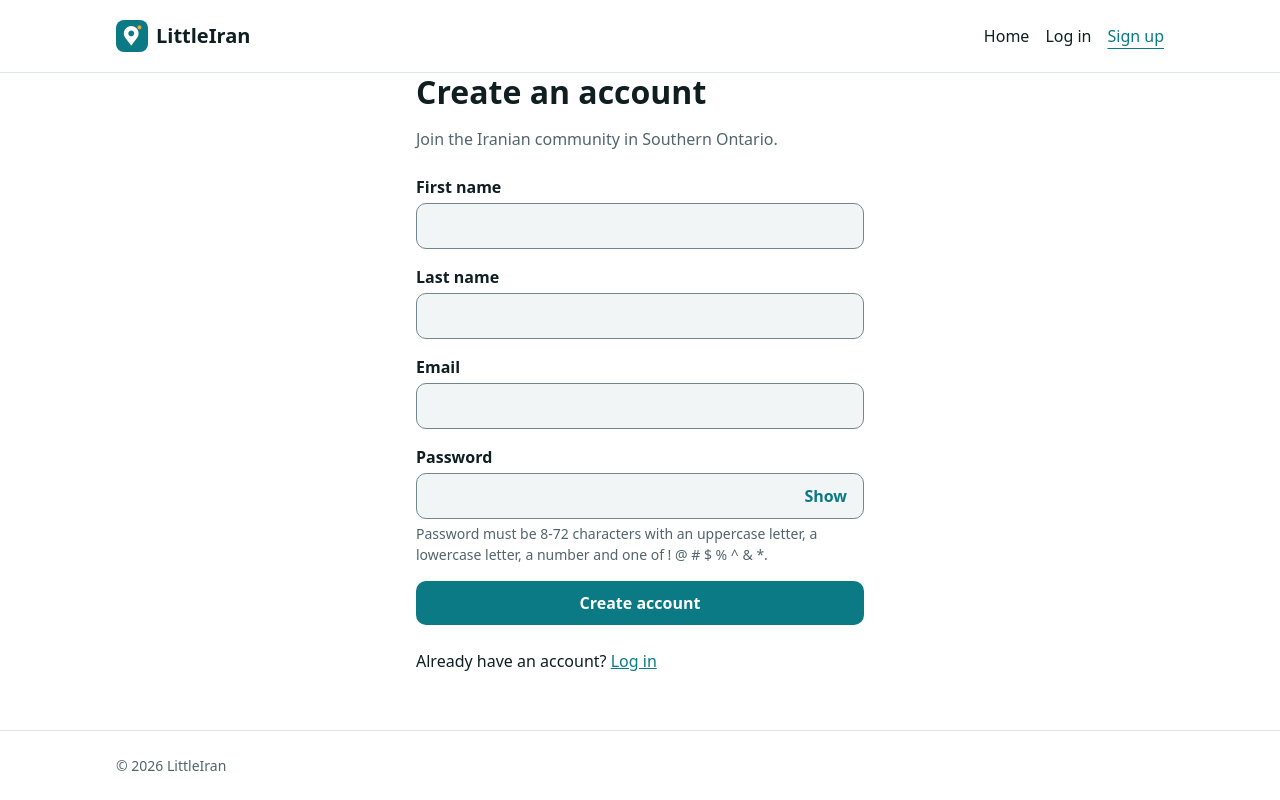
Scenario: Register page › creates the account, logs in and goes to the dashboard
Expected: the heading "Create an account" is shown, left=416, top=70, right=706, bottom=113
Type "Sara" into the field labelled "First name".
click(640, 226); type("Sara")  # box left=417, top=204, right=863, bottom=248
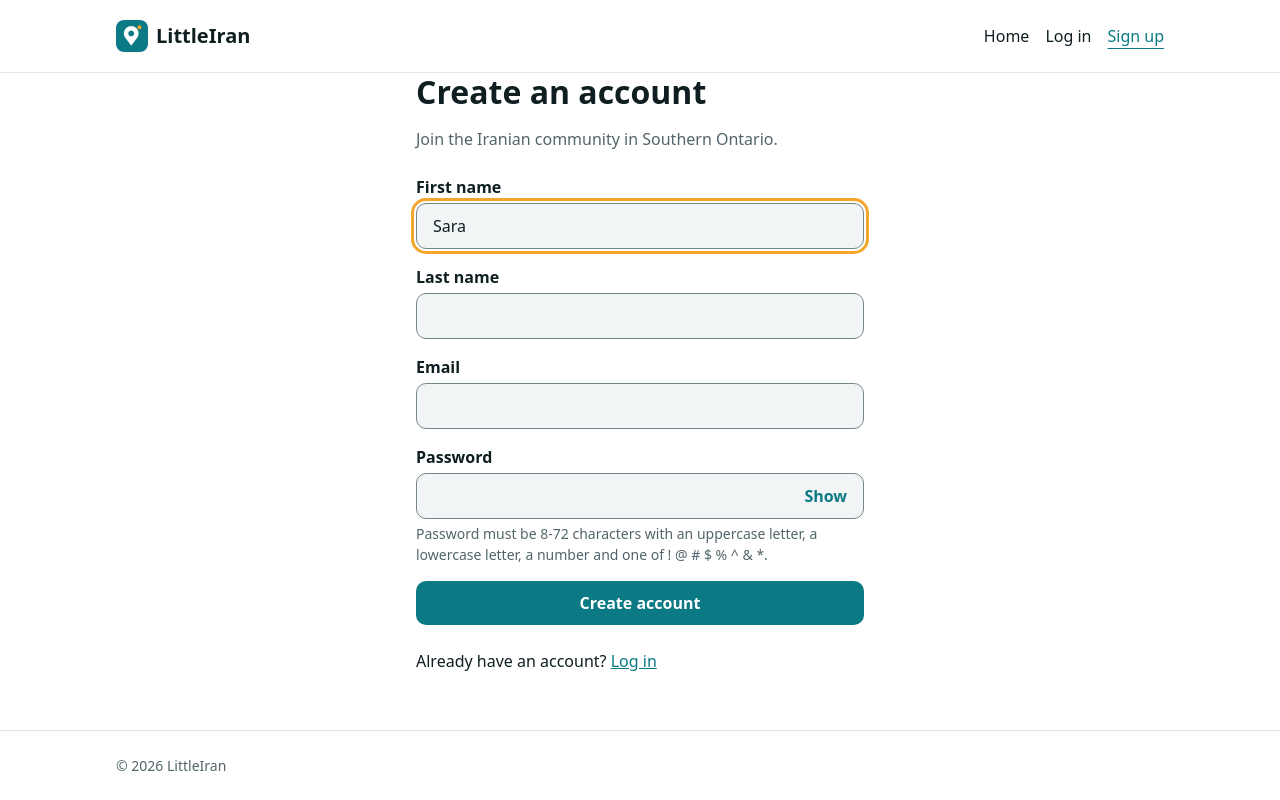
Type "Ahmadi" into the field labelled "Last name".
click(640, 316); type("Ahmadi")  # box left=417, top=294, right=863, bottom=338
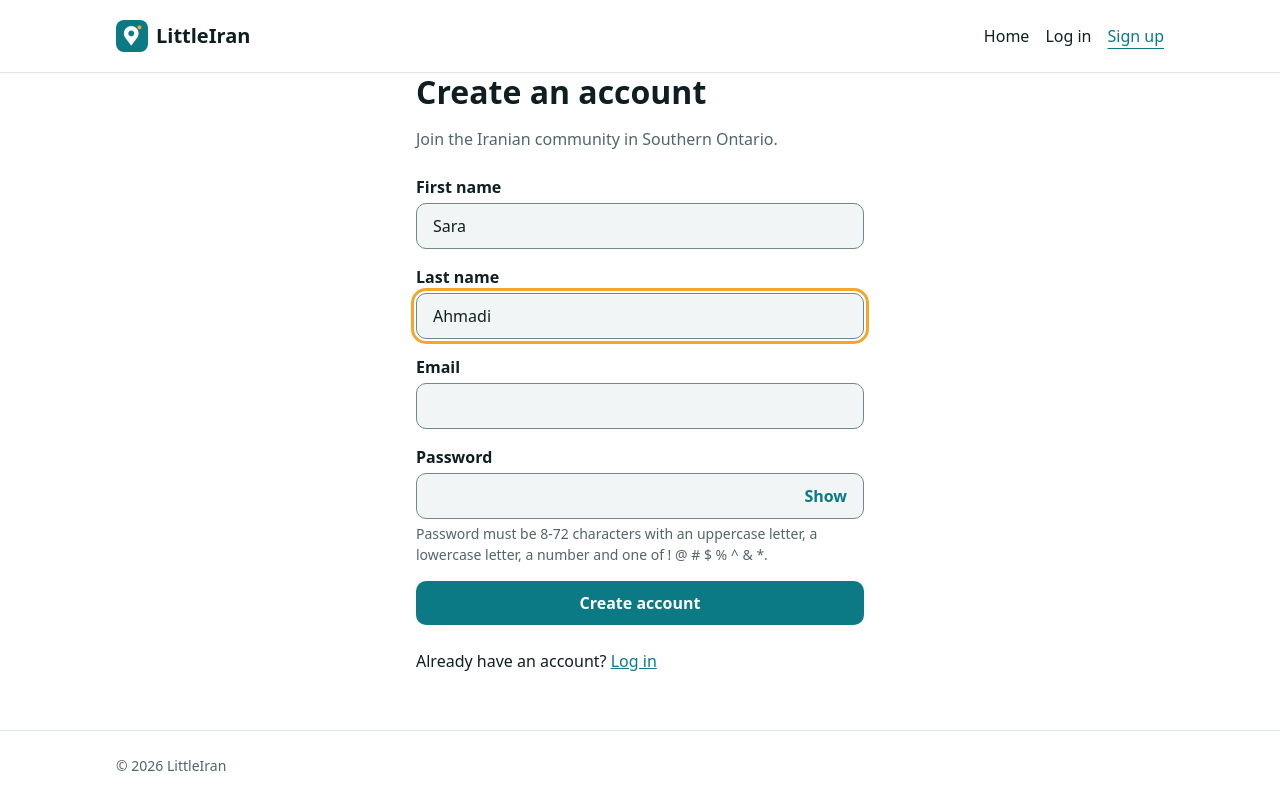
Type "  Sara@Example.com " into the field labelled "Email".
click(640, 406); type("  Sara@Example.com ")  # box left=417, top=384, right=863, bottom=428
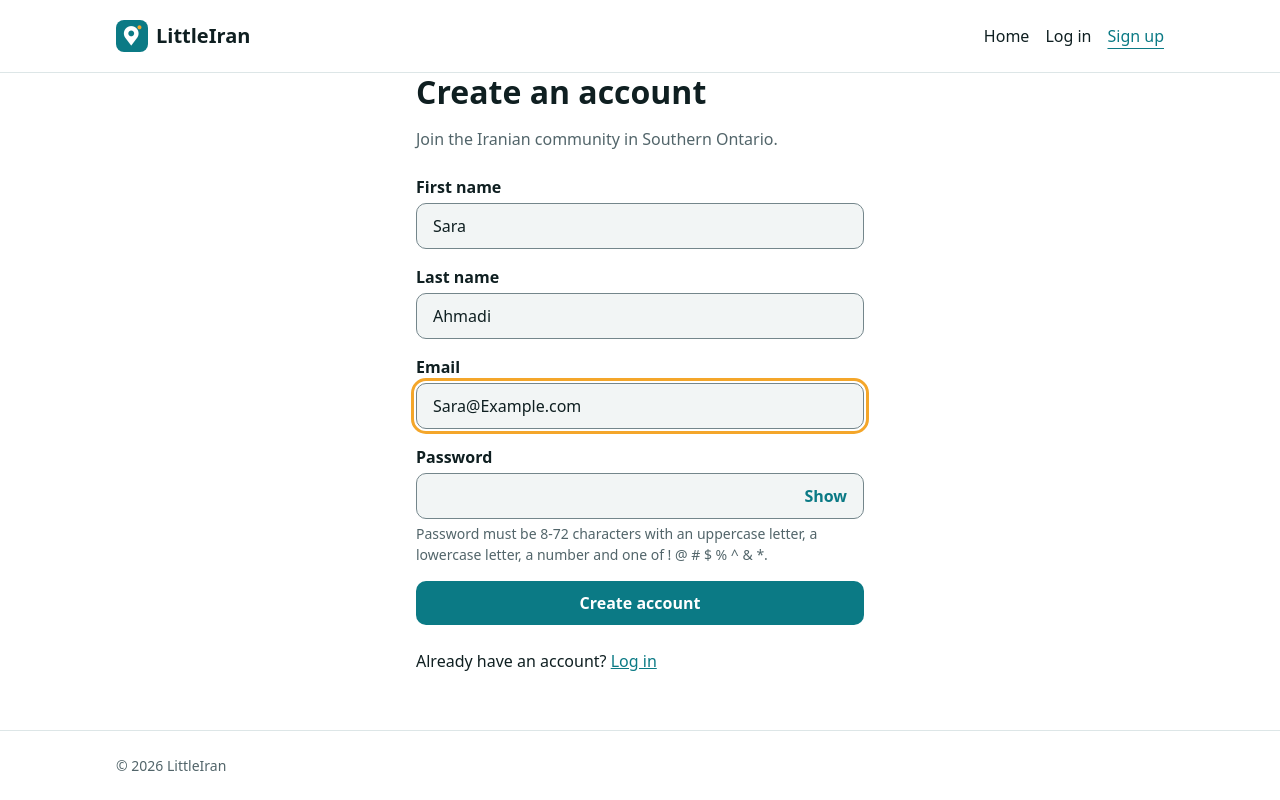
Type "Strong1!" into the password field labelled "Password".
click(603, 496); type("Strong1!")  # box left=417, top=474, right=788, bottom=518
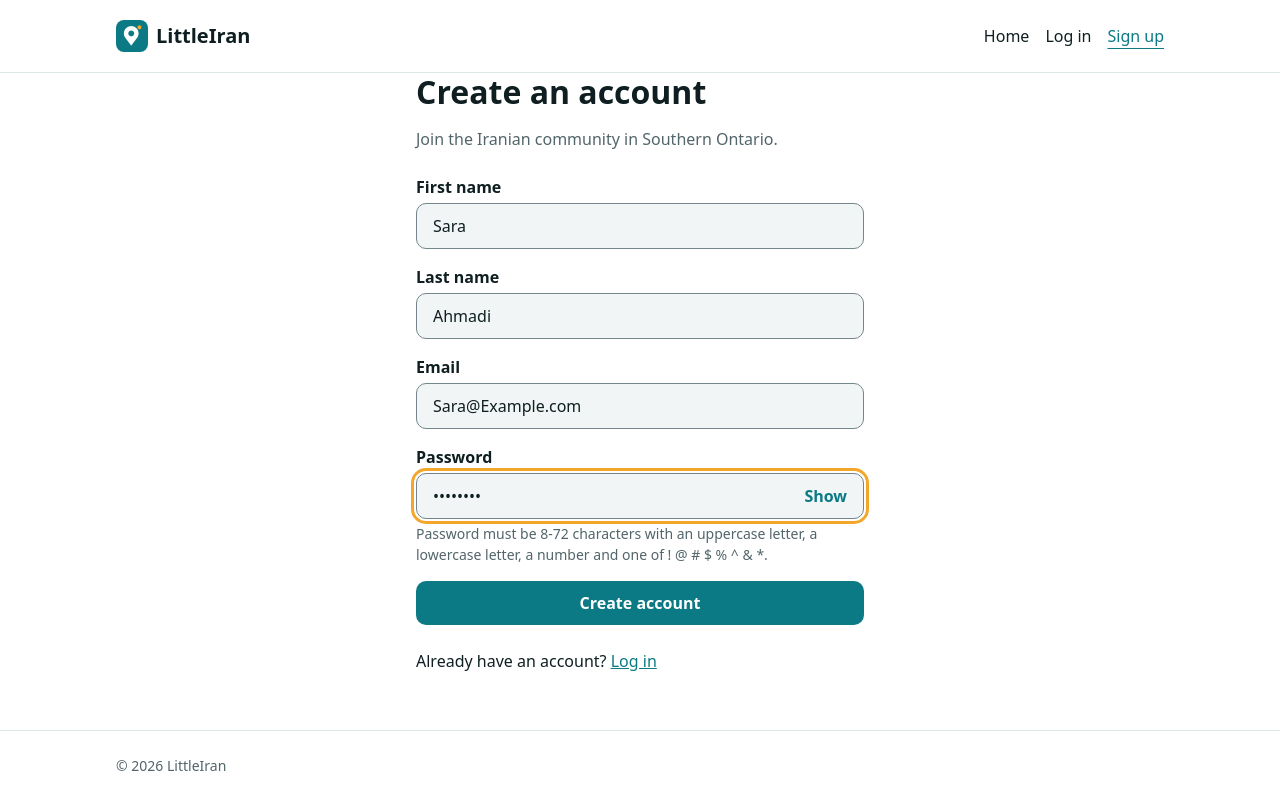
Click the button "Create account".
click(640, 603)  # box left=416, top=581, right=864, bottom=625
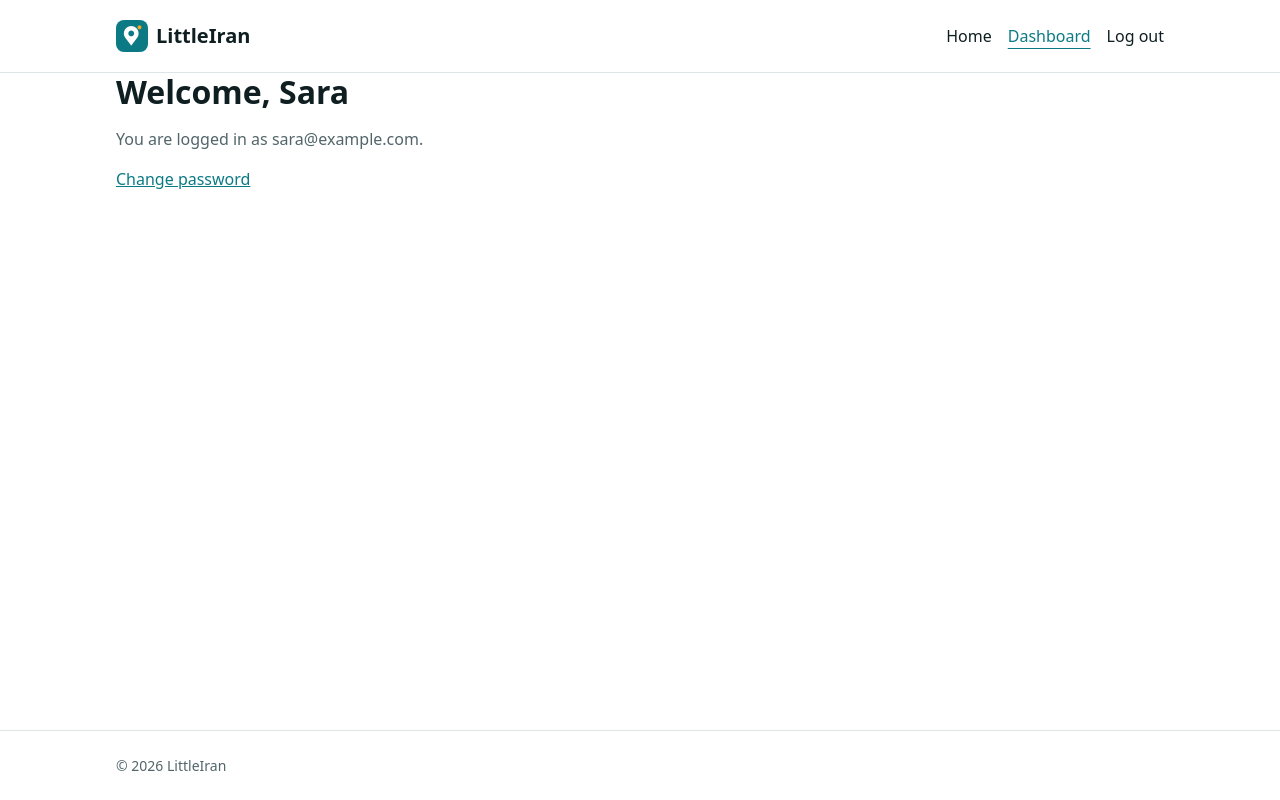
Expected: the heading "Welcome, Sara" is shown, left=116, top=70, right=349, bottom=113
